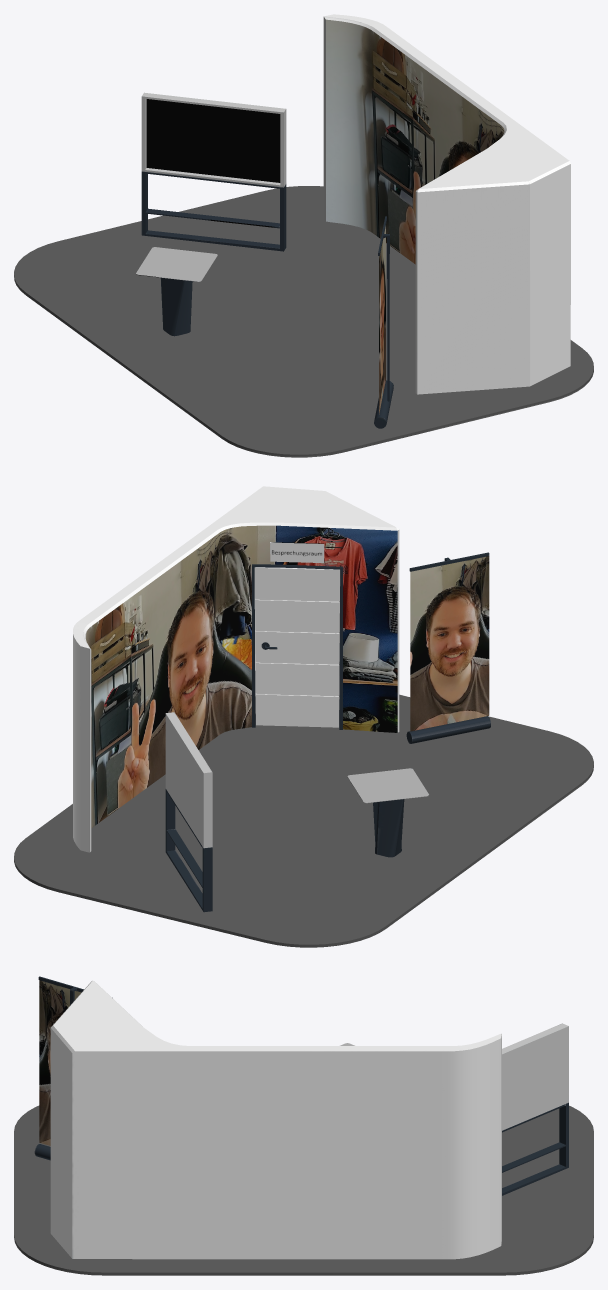
Rendered from malteStand.glb.
3 views of the same model, one above another, from view 1: azimuth 30°, elevation 25°; view 2: azimuth 150°, elevation 25°; view 3: azimuth 270°, elevation 25° (orthographic).
Parts seen in each view (by area): view 1: Rug.004; view 2: Rug.004; view 3: Rug.004.
Boxes of the visible parts, box(x1,y1,x2,y2) form: Rug.004: box(14, 14, 593, 457); Rug.004: box(14, 486, 593, 947); Rug.004: box(14, 976, 593, 1275).
Bounding box in the file's own units: 9.19 × 5.05 × 12.58.
Materials: 1 (1 with a texture image).
